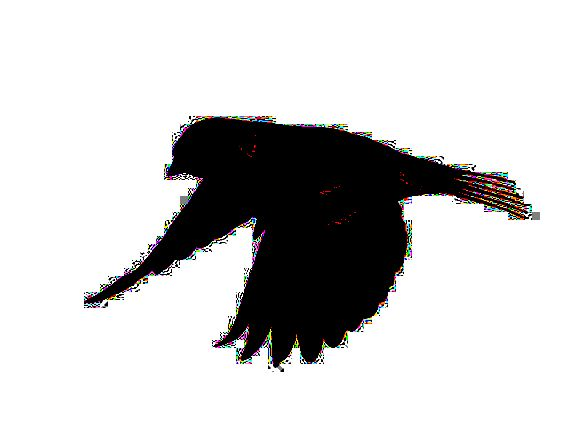Bird: (82, 107, 541, 373)
